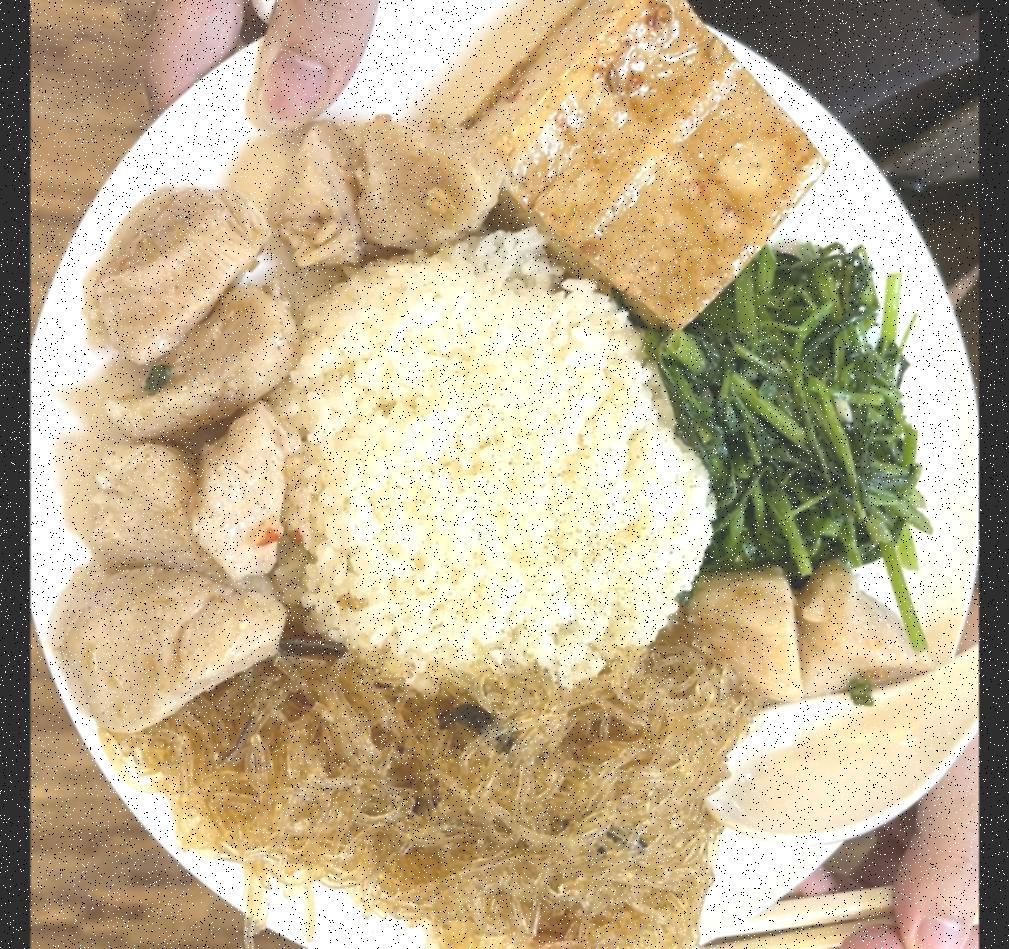big fried chicken leg: (30, 0, 979, 949)
big herbal chicken leg: (288, 240, 718, 693)
braised fish fillet: (100, 636, 765, 949), (471, 0, 839, 325), (650, 244, 928, 570)
braised pork: (58, 117, 512, 728)
